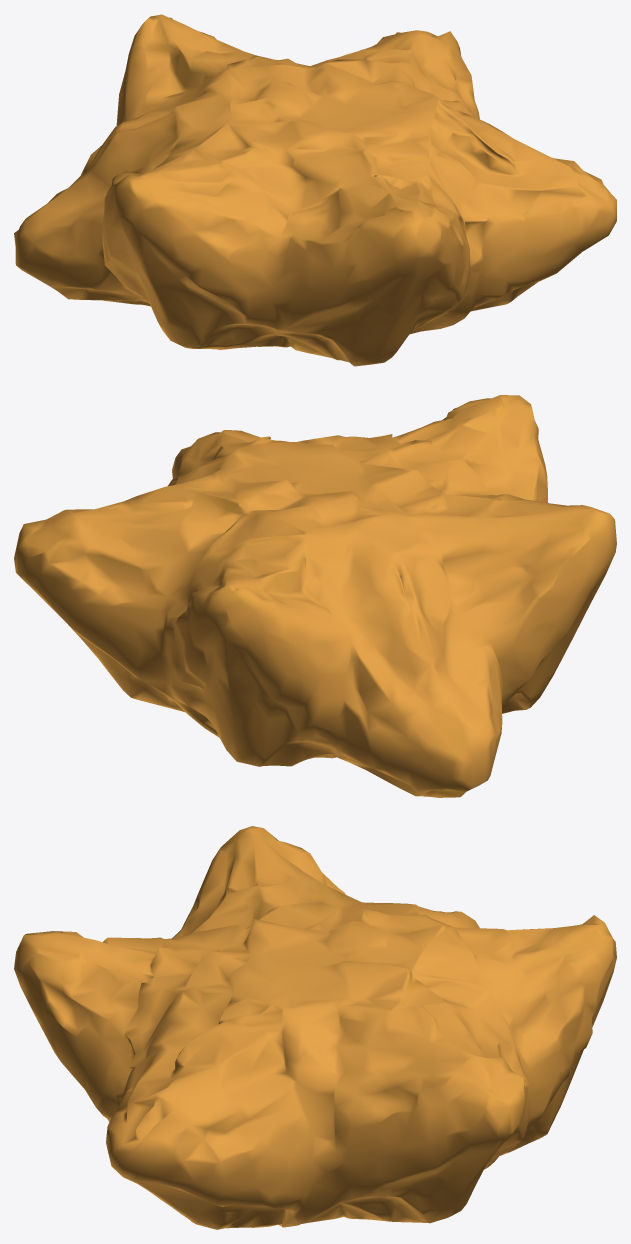
Rendered from star_shard_h3.glb.
The picture shows the model from 3 angles, top to bottom: view 1: azimuth 30°, elevation 25°; view 2: azimuth 150°, elevation 25°; view 3: azimuth 270°, elevation 25°; orthographic projection. The views are drawn at different scales.
Visible parts, largest first — view 1: tripo_node_01dceca1-34b3-4a23-b54a-a3dbb5e2f8ef; view 2: tripo_node_01dceca1-34b3-4a23-b54a-a3dbb5e2f8ef; view 3: tripo_node_01dceca1-34b3-4a23-b54a-a3dbb5e2f8ef.
Boxes of the visible parts, x1,y1,x2,y2 form: tripo_node_01dceca1-34b3-4a23-b54a-a3dbb5e2f8ef: (14, 14, 616, 366); tripo_node_01dceca1-34b3-4a23-b54a-a3dbb5e2f8ef: (14, 395, 616, 797); tripo_node_01dceca1-34b3-4a23-b54a-a3dbb5e2f8ef: (14, 826, 616, 1229).
Size of the model in its own units: 0.937 by 0.4237 by 1.
Materials: 1 (1 with a texture image).
